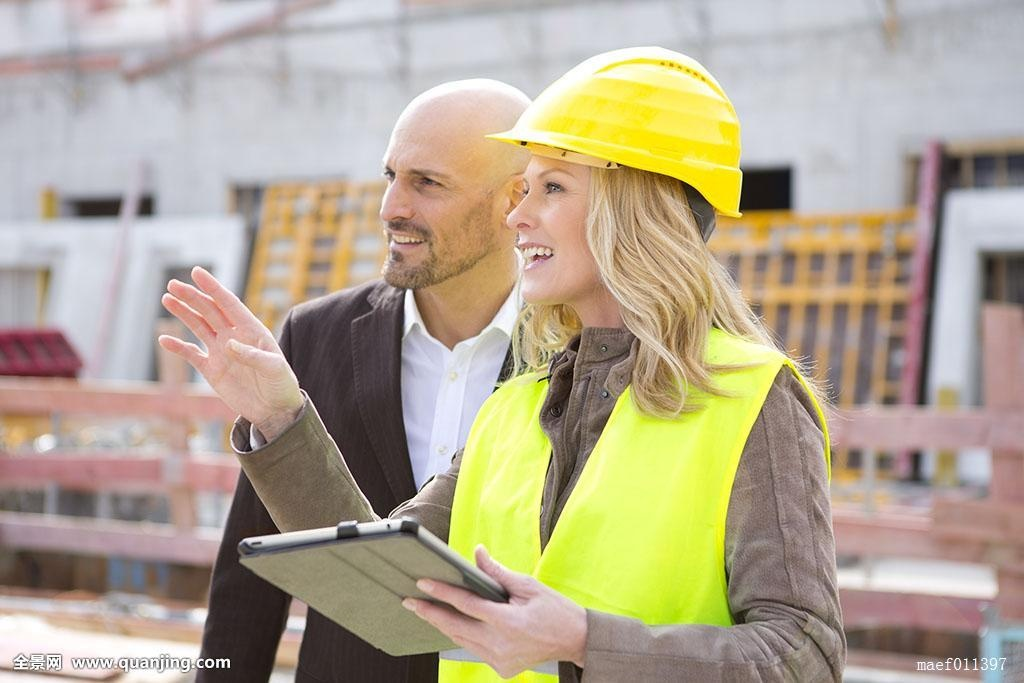none: (376, 72, 529, 288)
yellow: (511, 45, 744, 320)
